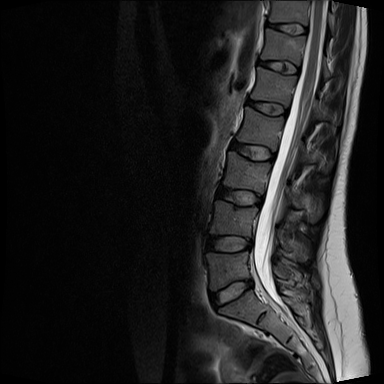Normal IVD: (203, 272, 256, 314), (213, 177, 269, 213), (225, 135, 280, 167), (252, 52, 304, 81), (202, 229, 255, 255), (242, 95, 290, 122), (264, 18, 312, 39)
